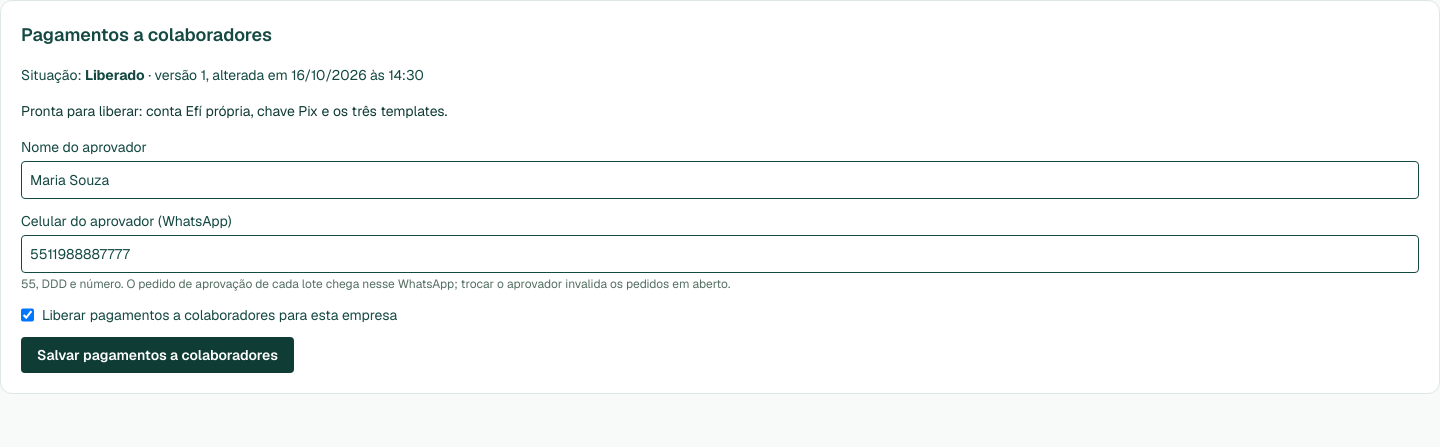
Test: DisbursementSettings › another admin saving first reloads instead of overwriting
Click the button "Salvar pagamentos a colaboradores": coordinates (157, 355) [21,337,294,373]
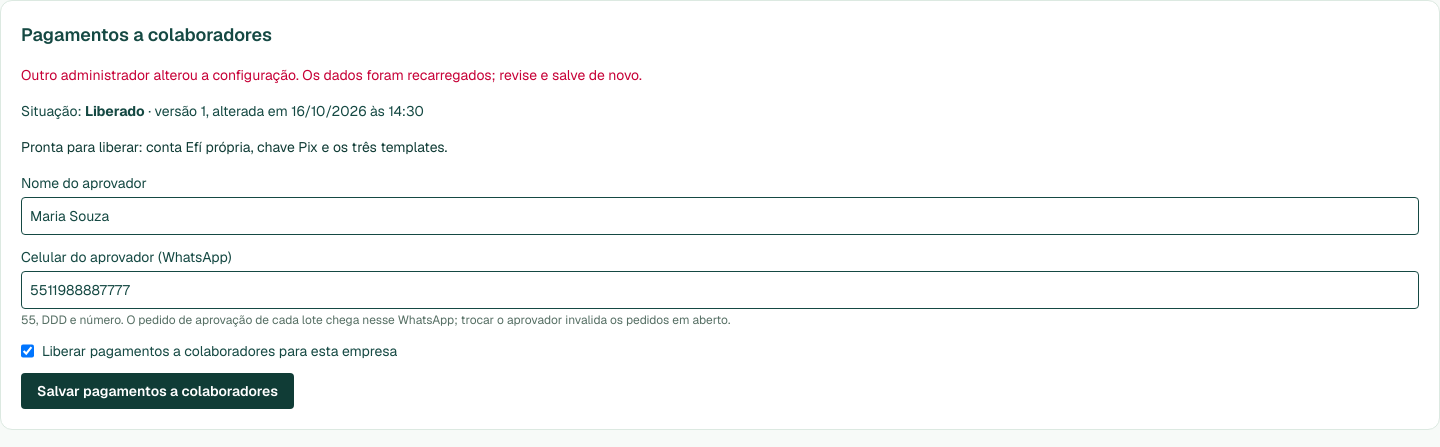
Now the message shows "Outro administrador alterou a configuração", box [21,66,642,84]
